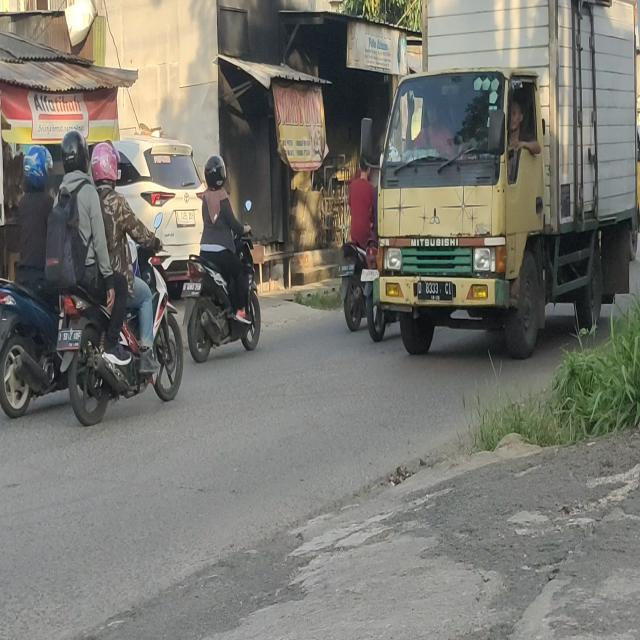helmet: (19, 145, 50, 194), (63, 131, 88, 181), (93, 139, 119, 186), (203, 153, 227, 190)
no-helmet: (356, 157, 372, 181)
